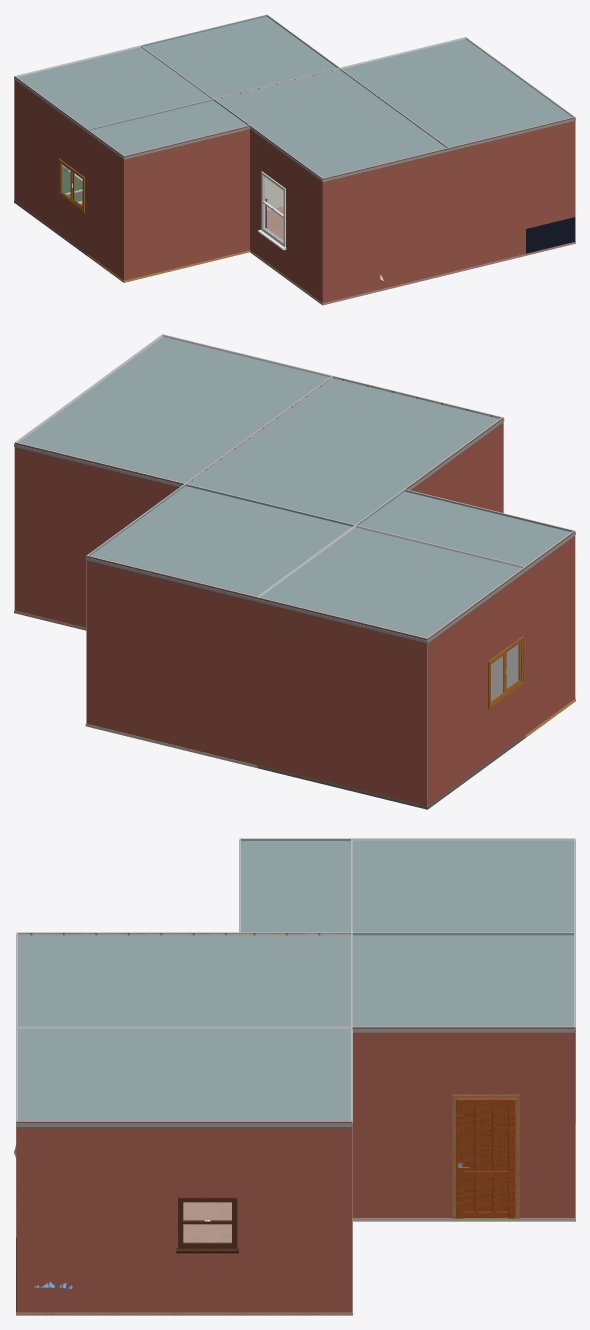
Rendered from ProcTHOR-Train-19.glb.
3 renders of one model, top to bottom at view 1: azimuth 30°, elevation 25°; view 2: azimuth 150°, elevation 25°; view 3: azimuth 270°, elevation 25°, orthographic. The views are drawn at different scales.
Visible parts, largest first — view 1: WallInside#wall|exterior|3.44|8.59|6.88|8.59, WallInside#wall|exterior|6.88|5.16|10.31|5.16, WallInside#wall|exterior|0.00|8.59|3.44|8.59, Ceiling#room|6|c, Ceiling#room|5|c, Ceiling#room|4|c, Ceiling#room|2|c, WallInside#wall|exterior|10.31|0.00|10.31|3.44, WallInside#wall|exterior|6.88|5.16|6.88|8.59, Ceiling#room|3|c, WallInside#wall|exterior|10.31|3.44|10.31|5.16, Bed_28 (+6 smaller); view 2: WallInside#wall|exterior|3.44|0.00|6.88|0.00, WallInside#wall|exterior|6.88|0.00|10.31|0.00, Ceiling#room|5|c, Ceiling#room|6|c, WallInside#wall|exterior|0.00|3.44|3.44|3.44, Ceiling#room|4|c, Ceiling#room|2|c, WallInside#wall|exterior|10.31|0.00|10.31|3.44, WallInside#wall|exterior|10.31|3.44|10.31|5.16, Ceiling#room|3|c, WallInside#wall|exterior|6.88|5.16|6.88|8.59, WallInside#wall|4|6.88|3.44|10.31|3.44 (+3 smaller); view 3: WallInside#wall|exterior|0.00|3.44|0.00|8.59, WallInside#wall|exterior|3.44|0.00|3.44|3.44, Ceiling#room|5|c, Ceiling#room|6|c, Ceiling#room|2|c, Ceiling#room|4|c, Ceiling#room|3|c, Doorway_10, Floor#room|5|f, Window_Hung_36x32, WallInside#wall|5|3.44|3.44|3.44|8.59, Floor#room|2|f (+4 smaller).
Boxes of the visible parts, box(x1,y1,x2,y2) form: WallInside#wall|exterior|3.44|8.59|6.88|8.59: box(322, 148, 449, 303); WallInside#wall|exterior|6.88|5.16|10.31|5.16: box(124, 125, 249, 280); WallInside#wall|exterior|0.00|8.59|3.44|8.59: box(448, 117, 575, 272); Ceiling#room|6|c: box(216, 69, 449, 182); Ceiling#room|5|c: box(342, 39, 575, 151); Ceiling#room|4|c: box(14, 47, 213, 132); Ceiling#room|2|c: box(143, 16, 337, 99); WallInside#wall|exterior|10.31|0.00|10.31|3.44: box(14, 76, 87, 253); WallInside#wall|exterior|6.88|5.16|6.88|8.59: box(250, 125, 322, 302); Ceiling#room|3|c: box(86, 100, 249, 159); WallInside#wall|exterior|10.31|3.44|10.31|5.16: box(87, 130, 123, 280); Bed_28: box(526, 217, 575, 253); WallInside#wall|exterior|3.44|0.00|6.88|0.00: box(86, 555, 257, 765); WallInside#wall|exterior|6.88|0.00|10.31|0.00: box(256, 597, 427, 806); Ceiling#room|5|c: box(14, 337, 332, 487); Ceiling#room|6|c: box(187, 378, 504, 524); WallInside#wall|exterior|0.00|3.44|3.44|3.44: box(14, 442, 184, 627); Ceiling#room|4|c: box(257, 527, 525, 643); Ceiling#room|2|c: box(85, 486, 351, 601); WallInside#wall|exterior|10.31|0.00|10.31|3.44: box(427, 567, 526, 806); WallInside#wall|exterior|10.31|3.44|10.31|5.16: box(525, 530, 575, 734); Ceiling#room|3|c: box(358, 491, 575, 571); WallInside#wall|exterior|6.88|5.16|6.88|8.59: box(405, 417, 503, 512); WallInside#wall|4|6.88|3.44|10.31|3.44: box(355, 525, 525, 700); WallInside#wall|exterior|0.00|3.44|0.00|8.59: box(16, 1121, 352, 1312); WallInside#wall|exterior|3.44|0.00|3.44|3.44: box(352, 1027, 575, 1218); Ceiling#room|5|c: box(16, 1029, 352, 1126); Ceiling#room|6|c: box(16, 934, 352, 1029); Ceiling#room|2|c: box(350, 935, 575, 1032); Ceiling#room|4|c: box(350, 840, 575, 934); Ceiling#room|3|c: box(239, 840, 352, 932); Doorway_10: box(452, 1094, 519, 1218); Floor#room|5|f: box(16, 1217, 352, 1315); Window_Hung_36x32: box(176, 1197, 238, 1253); WallInside#wall|5|3.44|3.44|3.44|8.59: box(16, 1027, 351, 1029); Floor#room|2|f: box(353, 1123, 575, 1221).
Size of what is drawn, in the model's own units: 10.47 by 3.31 by 8.66.
Materials: 312 (126 with a texture image).
